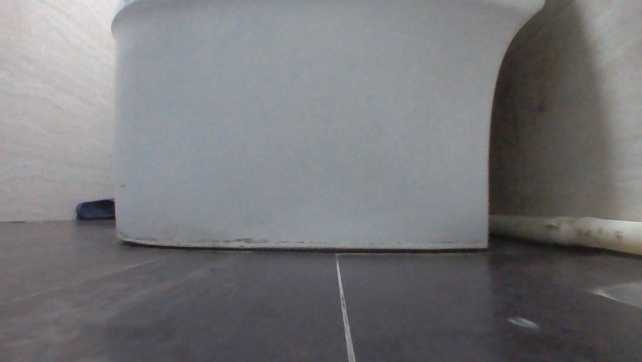toilet: (105, 0, 548, 254)
